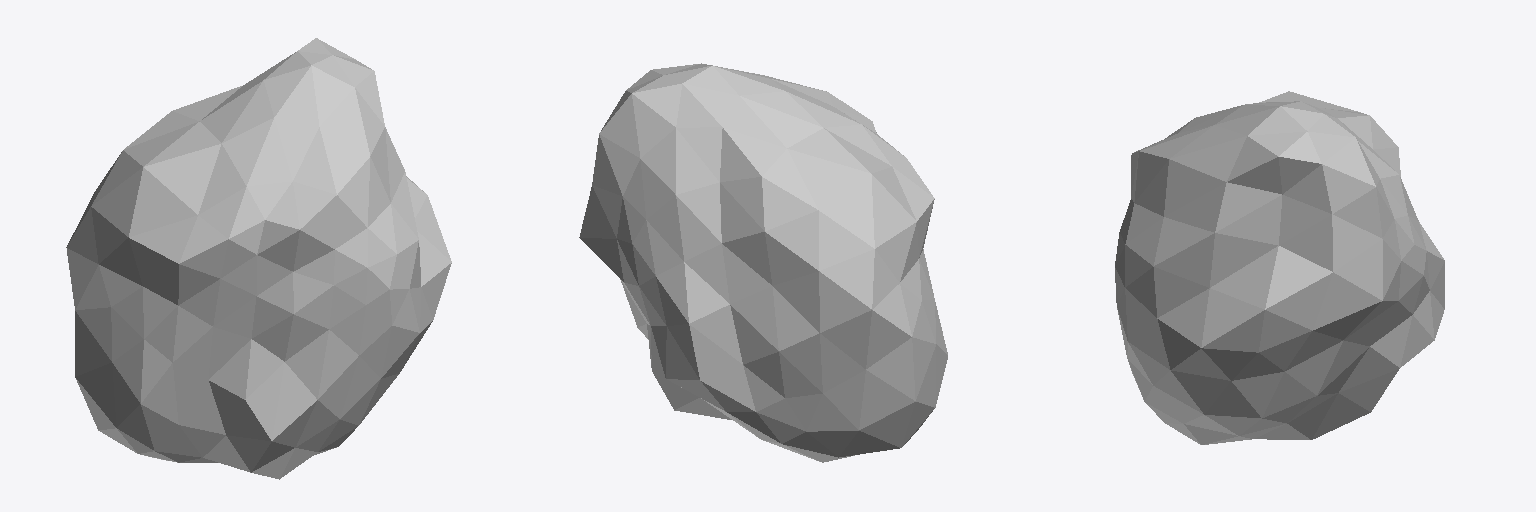
File: Rock_3_N_Color1.obj
The picture shows the model from 3 angles: view 1: azimuth 30°, elevation 25°; view 2: azimuth 150°, elevation 25°; view 3: azimuth 270°, elevation 25°; orthographic projection.
Parts seen in each view (by area): view 1: Rock_3_N_Color1; view 2: Rock_3_N_Color1; view 3: Rock_3_N_Color1.
Part boxes in pixels (x1,y1,x2,y2): Rock_3_N_Color1: (66, 38, 451, 479); Rock_3_N_Color1: (579, 63, 947, 462); Rock_3_N_Color1: (1115, 91, 1444, 444).
Bounding box in the file's own units: 3.42 × 3.53 × 2.98.